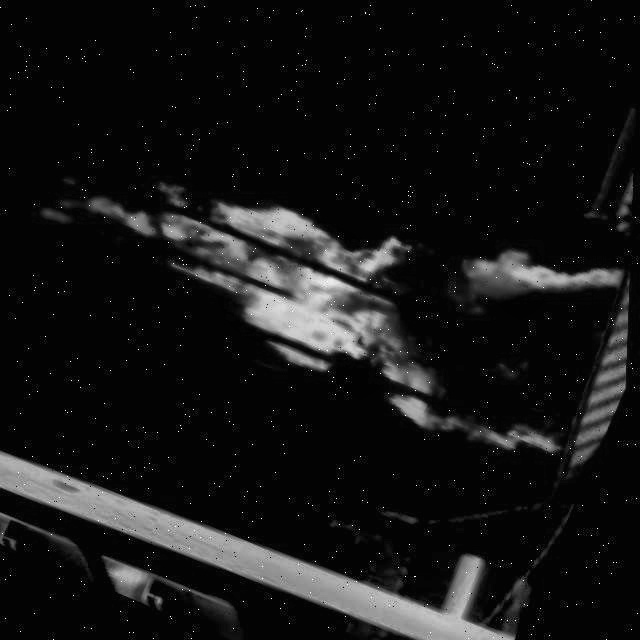Fire: (55, 76, 627, 473)
